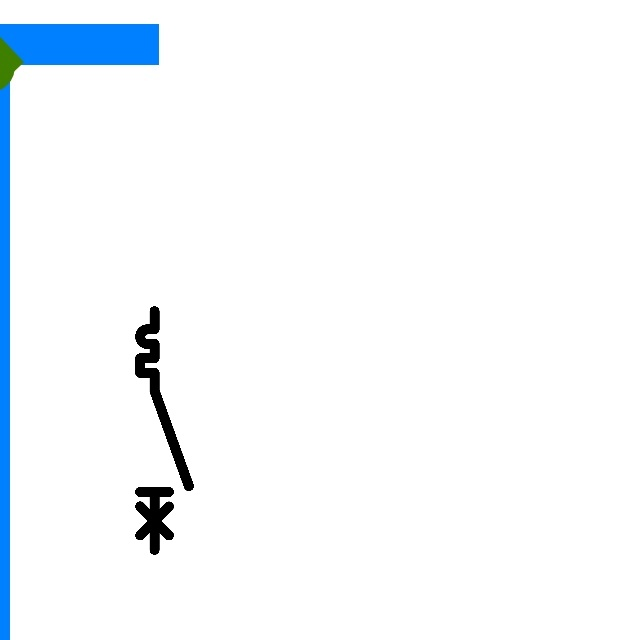interruptor_termomagnetico: (134, 305, 195, 556)
